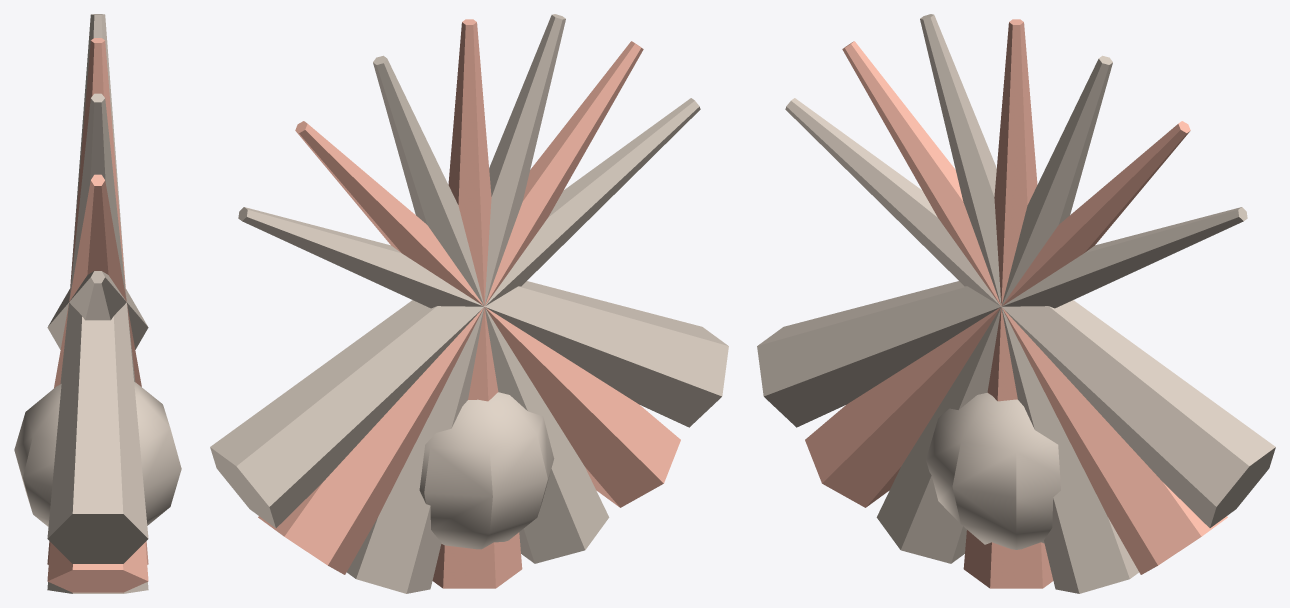
The model's file is DecoShell.fbx.
3 renders of one model, left to right at view 1: azimuth 30°, elevation 25°; view 2: azimuth 150°, elevation 25°; view 3: azimuth 270°, elevation 25°, orthographic. The views are drawn at different scales.
Parts seen in each view (by area): view 1: DecoShell; view 2: DecoShell; view 3: DecoShell.
Part boxes in pixels (x1,y1,x2,y2): DecoShell: [14, 14, 181, 593]; DecoShell: [210, 14, 728, 593]; DecoShell: [757, 14, 1275, 593].
Size of the model in its own units: 117 by 200 by 172.
